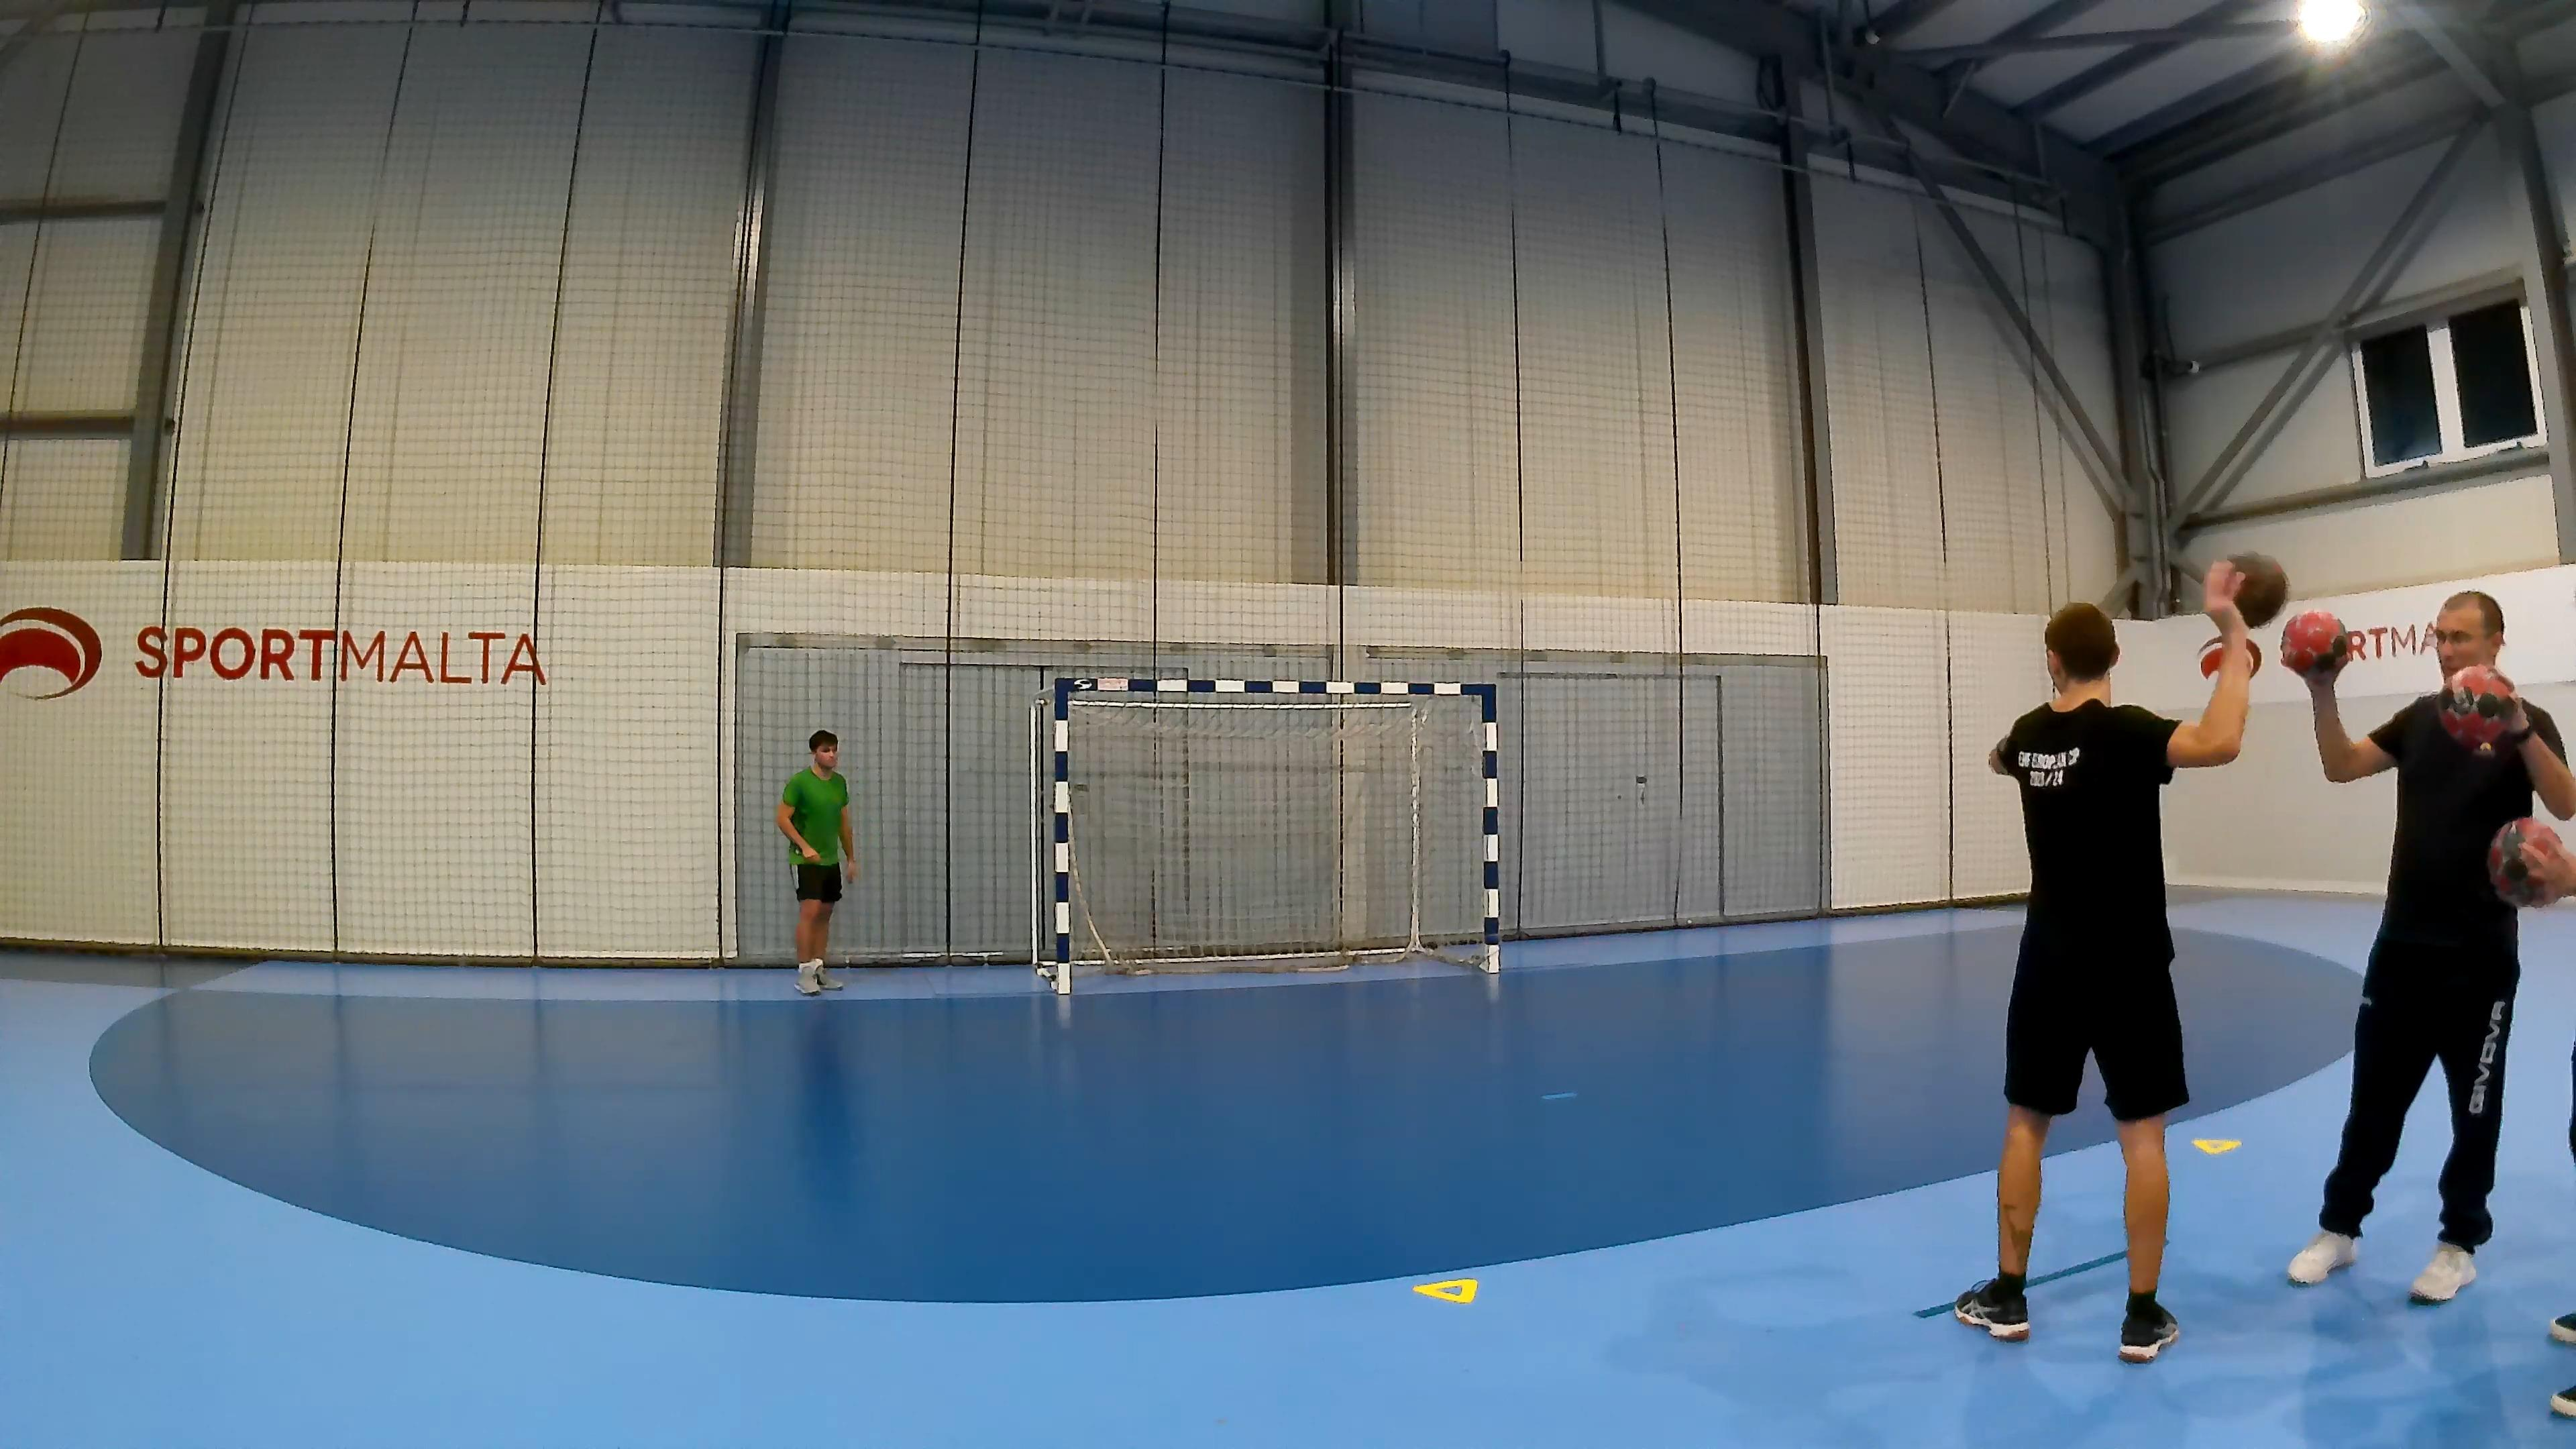handball: (2486, 814, 2564, 906), (2438, 665, 2516, 750), (2222, 548, 2289, 628), (2279, 609, 2342, 672)
